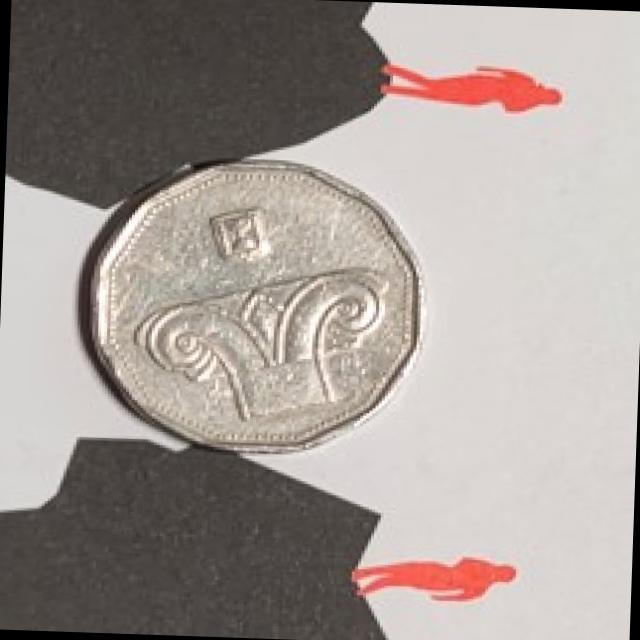5-shekel: (81, 140, 433, 463)
